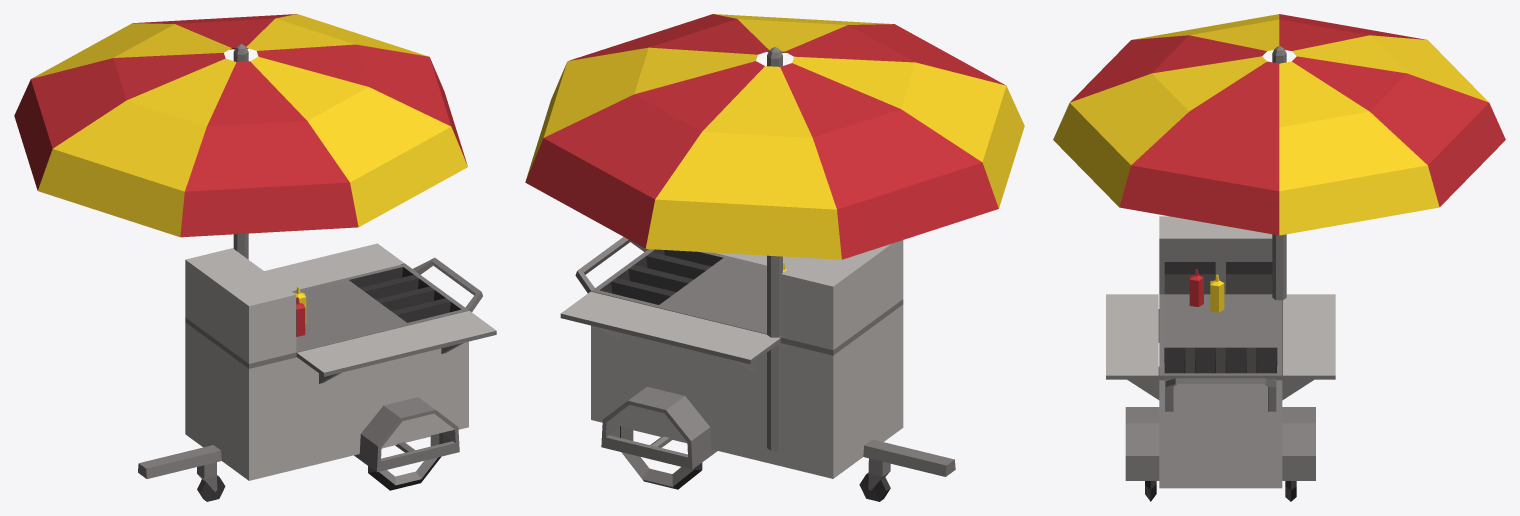
The model's file is props_hot-dog-stand.fbx.
3 views of the same model, side by side, from view 1: azimuth 30°, elevation 25°; view 2: azimuth 150°, elevation 25°; view 3: azimuth 270°, elevation 25° (orthographic). The views are drawn at different scales.
Parts seen in each view (by area): view 1: props_hot_dog_stand; view 2: props_hot_dog_stand; view 3: props_hot_dog_stand.
Part boxes in pixels (x1=…): props_hot_dog_stand: x1=14, y1=14, x2=496, y2=501; props_hot_dog_stand: x1=525, y1=14, x2=1024, y2=501; props_hot_dog_stand: x1=1053, y1=14, x2=1505, y2=501.
Size of the model in its own units: 200 by 196 by 200.
